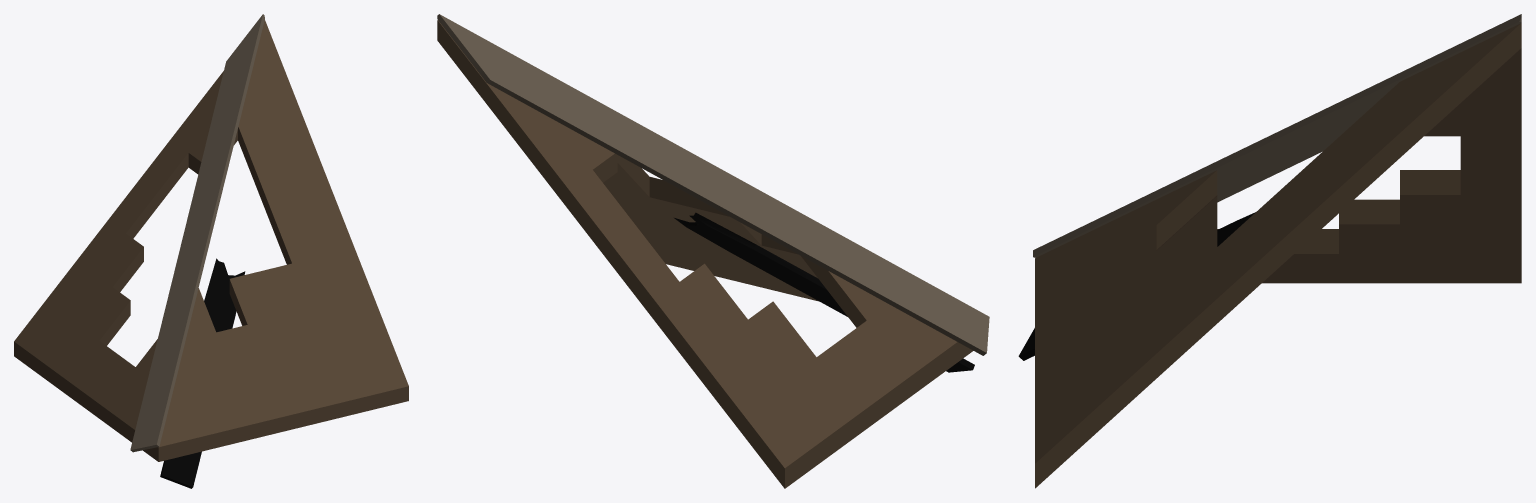
The model's file is dach_grat_2x2_kaputt.glb.
The picture shows the model from 3 angles, left to right: view 1: azimuth 30°, elevation 25°; view 2: azimuth 150°, elevation 25°; view 3: azimuth 270°, elevation 25°; orthographic projection. The views are drawn at different scales.
Visible parts, largest first — view 1: dach_grat_2x2_kaputt; view 2: dach_grat_2x2_kaputt; view 3: dach_grat_2x2_kaputt.
Boxes of the visible parts, bbox=[...] form: dach_grat_2x2_kaputt: bbox=[14, 14, 408, 488]; dach_grat_2x2_kaputt: bbox=[437, 14, 989, 488]; dach_grat_2x2_kaputt: bbox=[1018, 14, 1521, 488].
Size of the model in its own units: 2.12 by 2.39 by 2.07.
